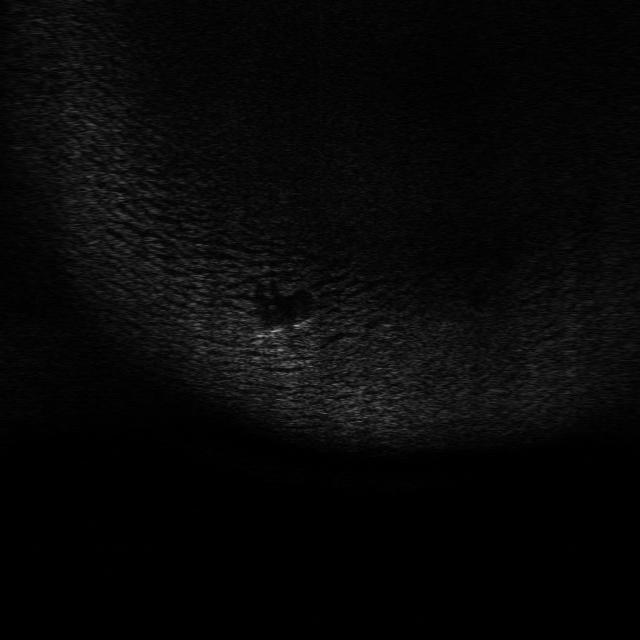plane: (250, 316, 310, 350)
